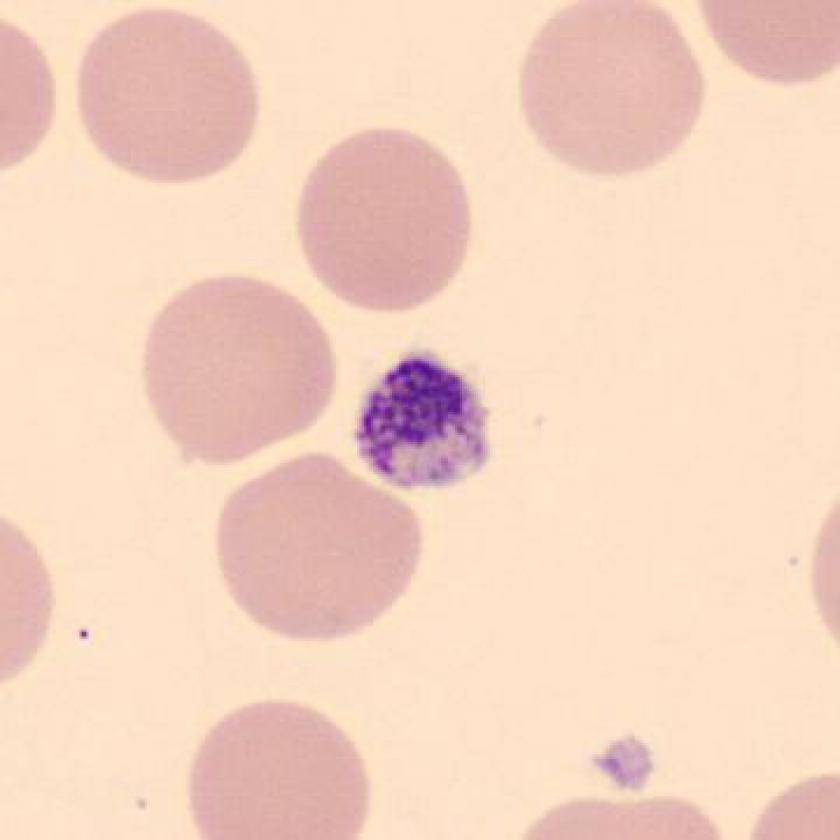platelets: (349, 348, 500, 492), (594, 730, 666, 799)
